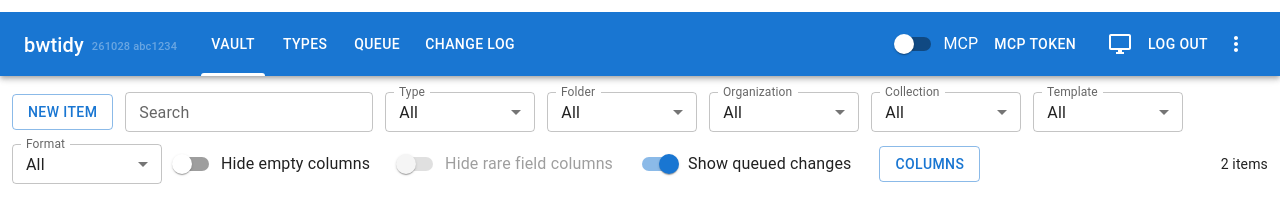
Test: the Queue button tooltip explains its number: nothing
This screenshot has width=1280, height=201.
Hover over the button with aria-label "Queue, nothing pending".
mouse_move(377, 44)  # box [345, 12, 409, 76]
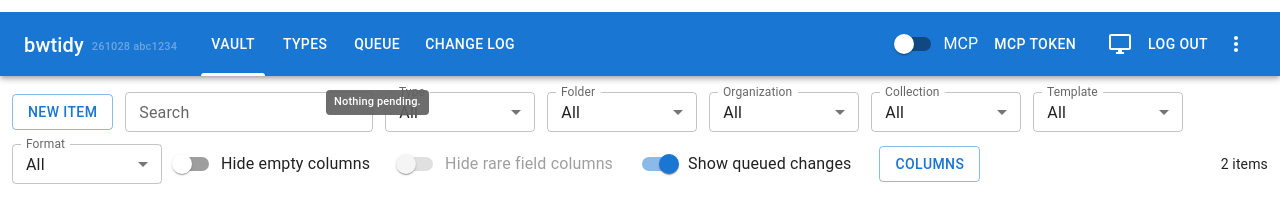
Expected: the tooltip reads "Nothing pending.", [334, 95, 421, 108]
